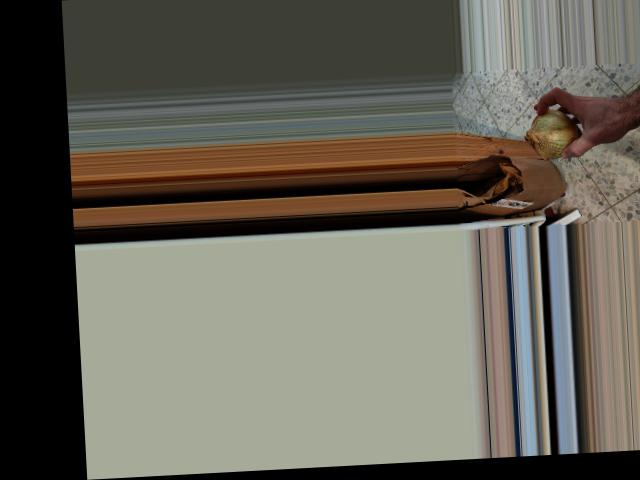onion: (521, 105, 587, 163)
